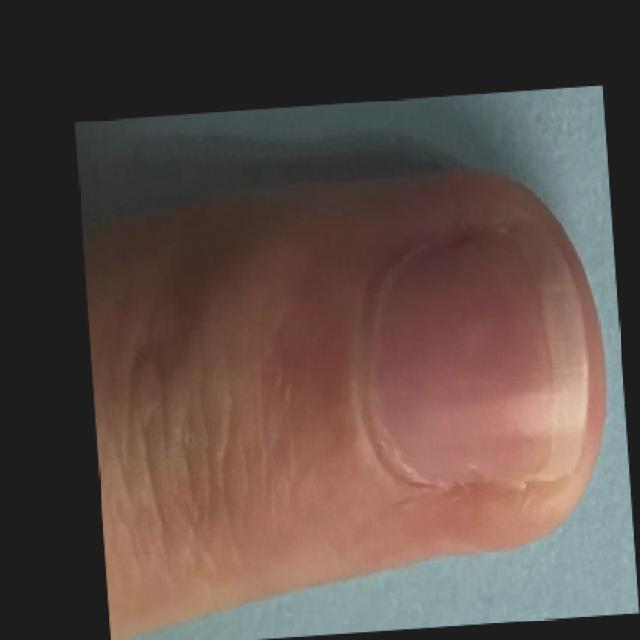Nail: (363, 211, 589, 487)
